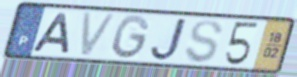5: (223, 20, 262, 67)
A: (31, 11, 71, 55)
G: (110, 13, 152, 61)
J: (148, 16, 189, 62)
S: (182, 18, 225, 65)
V: (78, 10, 120, 59)
